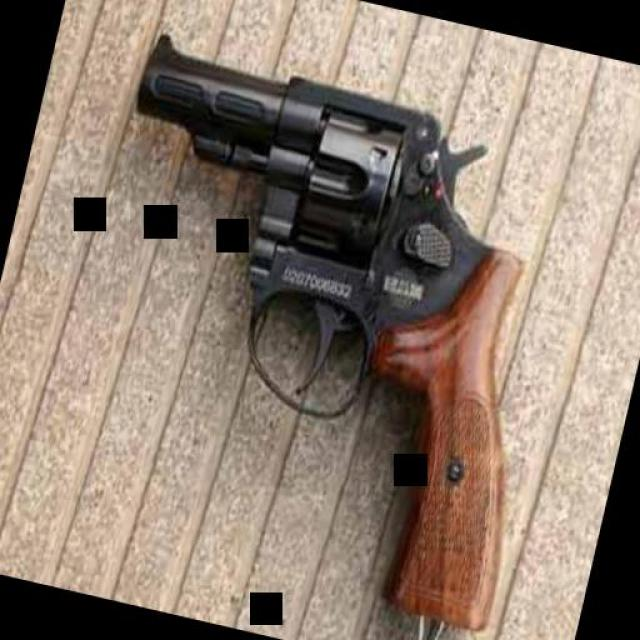gun: (35, 29, 601, 634)
